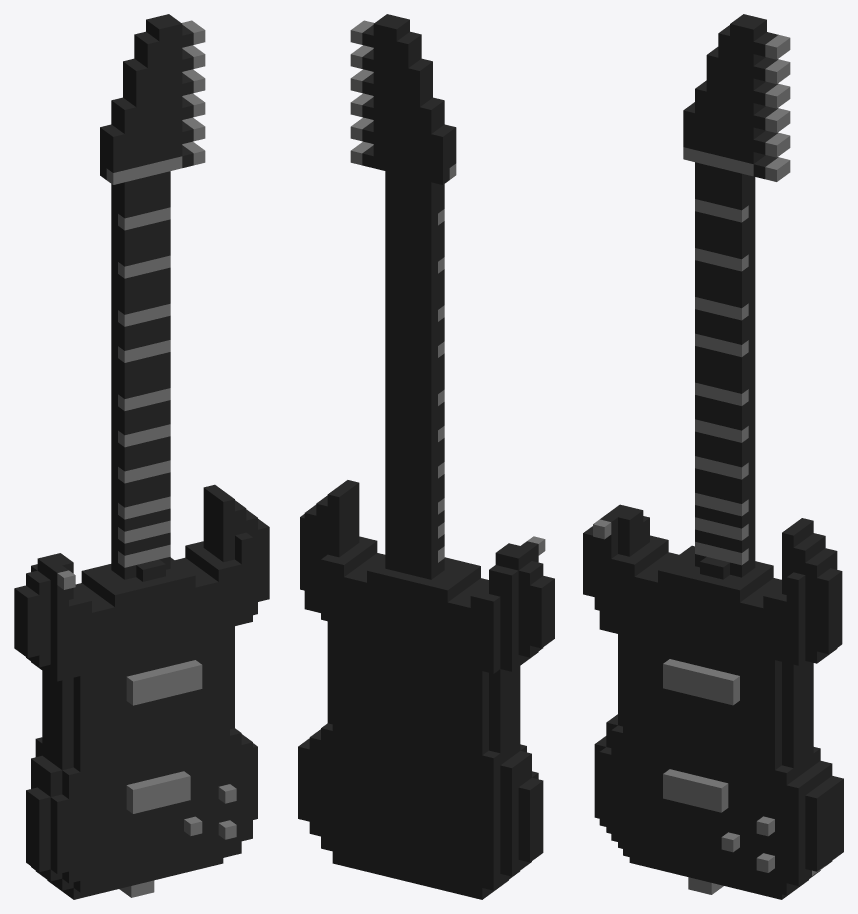
The model's file is Guitar.obj.
3 renders of one model, left to right at view 1: azimuth 30°, elevation 25°; view 2: azimuth 150°, elevation 25°; view 3: azimuth 330°, elevation 25°, orthographic.
Visible parts, largest first — view 1: Guitar; view 2: Guitar; view 3: Guitar.
Part boxes in pixels (bbox=[...]): Guitar: bbox=[14, 14, 269, 899]; Guitar: bbox=[298, 14, 554, 899]; Guitar: bbox=[583, 14, 843, 899].
Bounding box in the file's own units: 21 × 71 × 6.
1 material, 1 textured.
